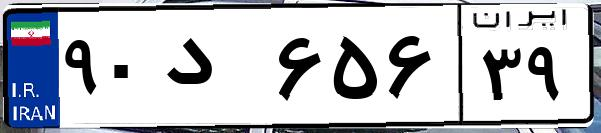0: (110, 28, 158, 98)
3: (475, 38, 525, 113)
5: (330, 28, 385, 110)
6: (270, 28, 330, 110), (385, 28, 445, 110)
9: (57, 26, 110, 100), (525, 38, 570, 115)
د: (158, 20, 270, 120)
